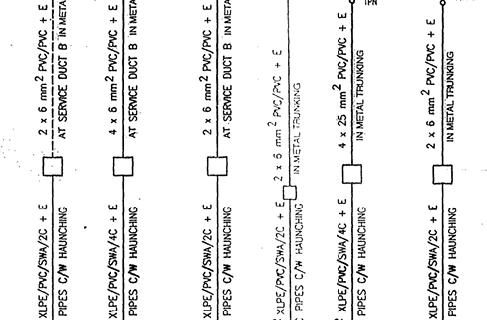Cable Termination Box: (202, 146, 233, 186), (335, 158, 371, 192), (106, 152, 138, 184), (428, 159, 458, 193), (38, 152, 68, 181), (280, 184, 304, 206)
